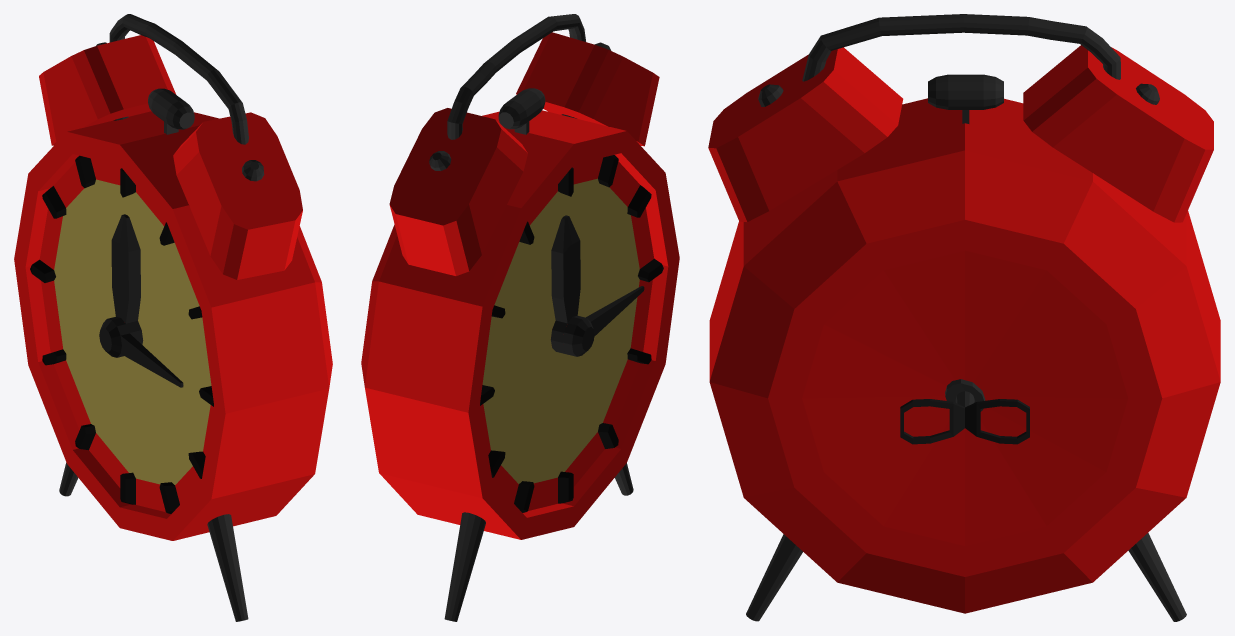
The model's file is Fire Alarm.fbx.
3 views of the same model, side by side, from view 1: azimuth 30°, elevation 25°; view 2: azimuth 150°, elevation 25°; view 3: azimuth 270°, elevation 25° (orthographic). The views are drawn at different scales.
Visible parts, largest first — view 1: Node 0, Node 2, Node 3; view 2: Node 0, Node 2, Node 3; view 3: Node 0, Node 1.
Boxes of the visible parts, x1,y1,x2,y2 form: Node 0: (14,14,332,621); Node 2: (111,214,142,344); Node 3: (99,316,183,387); Node 0: (361,14,679,621); Node 2: (551,215,580,354); Node 3: (563,286,644,356); Node 0: (708,14,1220,621); Node 1: (900,399,1029,444).
Size of the model in its own units: 0.1957 by 0.2611 by 0.1.
